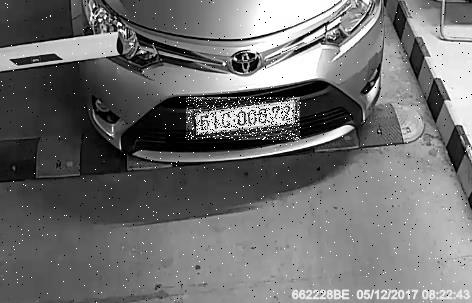License-plate: (188, 98, 303, 141)
